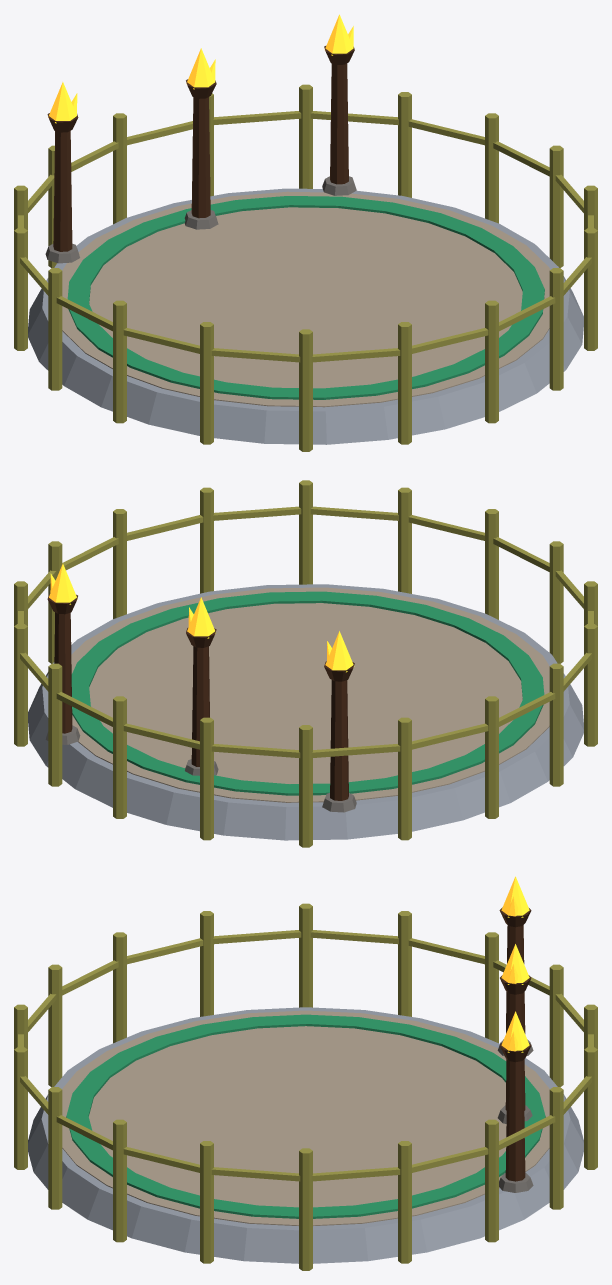
File: panggung_uji_v001.glb
3 renders of one model, top to bottom at view 1: azimuth 30°, elevation 25°; view 2: azimuth 150°, elevation 25°; view 3: azimuth 270°, elevation 25°, orthographic.
Parts seen in each view (by area): view 1: Arena_Uji, Pagar_Uji, Cincin_Aksen, Api_2_Nyala, Api_3_Nyala, Api_1_Nyala; view 2: Arena_Uji, Pagar_Uji, Cincin_Aksen, Api_2_Nyala, Api_3_Nyala, Api_1_Nyala; view 3: Arena_Uji, Pagar_Uji, Cincin_Aksen, Api_1_Nyala, Api_3_Nyala, Api_2_Nyala.
Part boxes in pixels (x1,y1,x2,y2): Arena_Uji: [28, 46, 583, 444]; Pagar_Uji: [14, 84, 597, 451]; Cincin_Aksen: [67, 196, 544, 399]; Api_2_Nyala: [186, 48, 215, 89]; Api_3_Nyala: [324, 14, 353, 55]; Api_1_Nyala: [48, 82, 77, 123]; Arena_Uji: [28, 584, 583, 840]; Pagar_Uji: [14, 480, 597, 847]; Cincin_Aksen: [71, 591, 544, 795]; Api_2_Nyala: [187, 597, 215, 638]; Api_3_Nyala: [49, 563, 77, 604]; Api_1_Nyala: [325, 631, 354, 672]; Arena_Uji: [28, 907, 583, 1263]; Pagar_Uji: [14, 903, 597, 1270]; Cincin_Aksen: [66, 1014, 545, 1218]; Api_1_Nyala: [501, 876, 529, 917]; Api_3_Nyala: [501, 1011, 529, 1052]; Api_2_Nyala: [501, 944, 529, 984].
Bounding box in the file's own units: 5.92 × 2.24 × 5.85.
